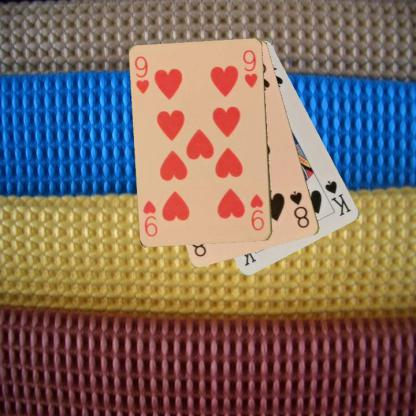8s: (287, 188, 311, 230)
9h: (132, 53, 151, 96), (248, 192, 266, 232)
Ks: (322, 178, 353, 218)
